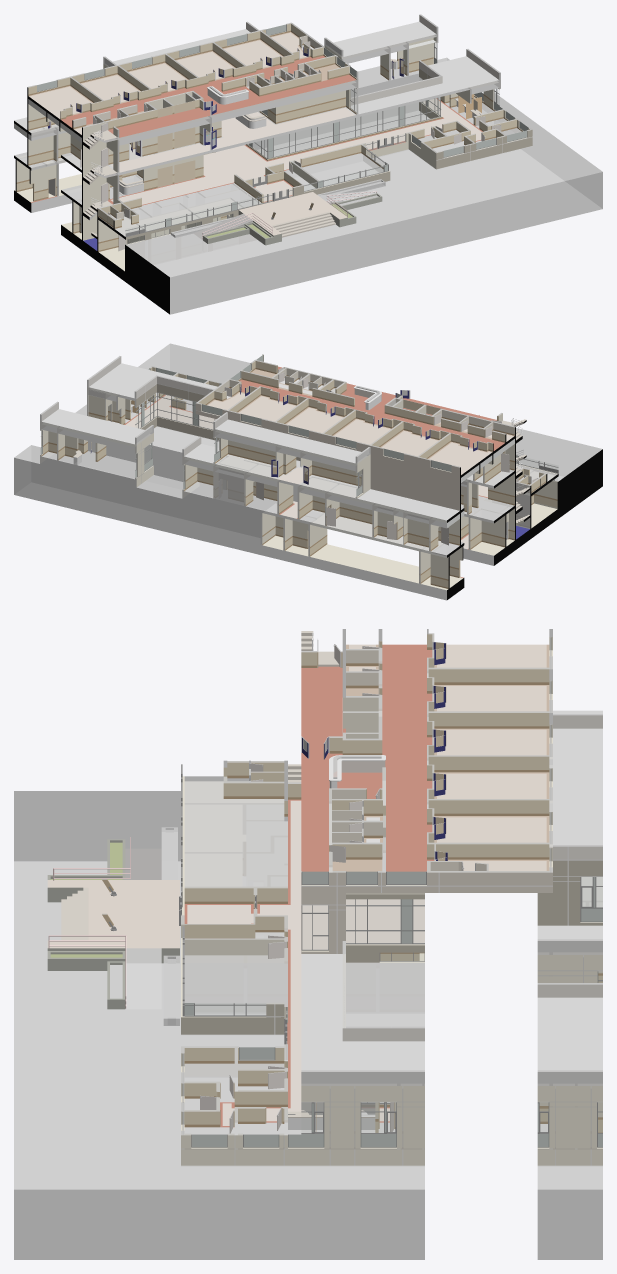
Rendered from boresh.glb.
3 renders of one model, top to bottom at view 1: azimuth 30°, elevation 25°; view 2: azimuth 150°, elevation 25°; view 3: azimuth 270°, elevation 25°, orthographic. The views are drawn at different scales.
Parts seen in each view (by area): view 1: Node16734, Node16773, Node16812, Node8827, Node15103, Node17182, Node15540, Node8279, Node4086, Node5573, Node16777, Node15760 (+38 smaller); view 2: Node17169, Node17182, Node17129, Node16812, Node16783, Node16773, Node17065, Node16777, Node16734, Node15103, Node5725, Node4785 (+38 smaller); view 3: Node16734, Node16812, Node15540, Node15103, Node16777, Node4086, Node17175, Node8827, Node5573, Node15760, Node17129, Node5725 (+48 smaller).
Boxes of the visible parts, x1,y1,x2,y2 form: Node16734: (155,141,600,313); Node16773: (170,172,602,314); Node16812: (126,93,602,277); Node8827: (111,98,481,204); Node15103: (62,56,354,137); Node17182: (31,27,439,212); Node15540: (494,97,602,207); Node8279: (110,108,354,172); Node4086: (132,184,259,229); Node5573: (351,56,498,114); Node16777: (61,225,169,314); Node15760: (239,192,347,235); Node17169: (14,414,260,554); Node17182: (32,426,462,543); Node17129: (15,483,446,599); Node16812: (75,343,602,481); Node16783: (182,449,446,600); Node16773: (170,344,601,475); Node17065: (87,380,493,565); Node16777: (494,449,602,565); Node16734: (88,413,562,565); Node15103: (241,366,504,450); Node5725: (215,419,361,463); Node4785: (311,544,418,583); Node16734: (14,862,424,1259); Node16812: (14,791,424,1189); Node15540: (14,1189,424,1259); Node15103: (301,644,429,871); Node16777: (14,791,180,860); Node4086: (187,800,281,886); Node17175: (185,963,424,1012); Node8827: (222,800,424,1125); Node5573: (301,954,424,1070); Node15760: (47,880,179,948); Node17129: (538,1167,602,1259); Node5725: (553,728,602,844).
Size of what is drawn, in the model's own units: 2045 by 556 by 1278.
